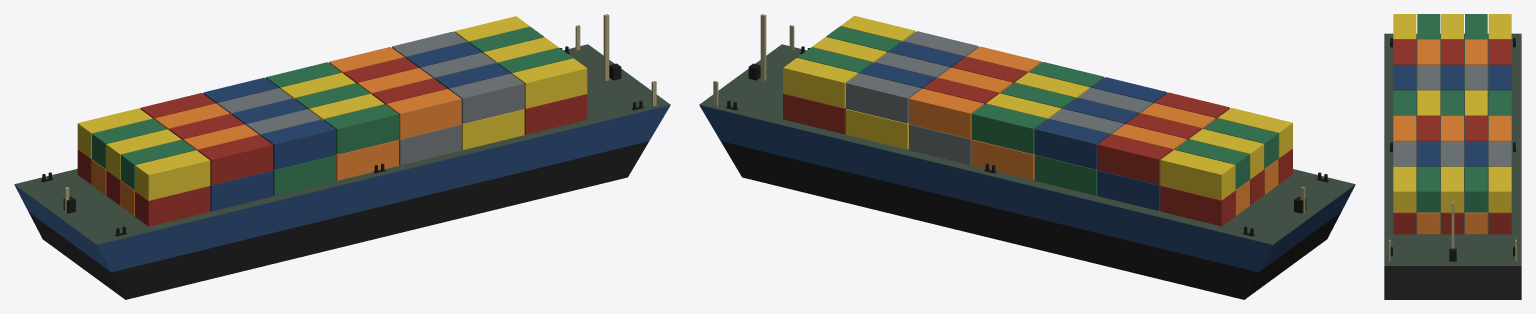
Rendered from barge60.glb.
3 views of the same model, side by side, from view 1: azimuth 30°, elevation 25°; view 2: azimuth 150°, elevation 25°; view 3: azimuth 270°, elevation 25° (orthographic). The views are drawn at different scales.
Visible parts, largest first — view 1: barge60; view 2: barge60; view 3: barge60.
Part boxes in pixels (x1,y1,x2,y2): barge60: [14, 14, 670, 299]; barge60: [699, 14, 1355, 299]; barge60: [1384, 14, 1521, 299].
Bounding box in the file's own units: 60 × 12.7 × 15.
